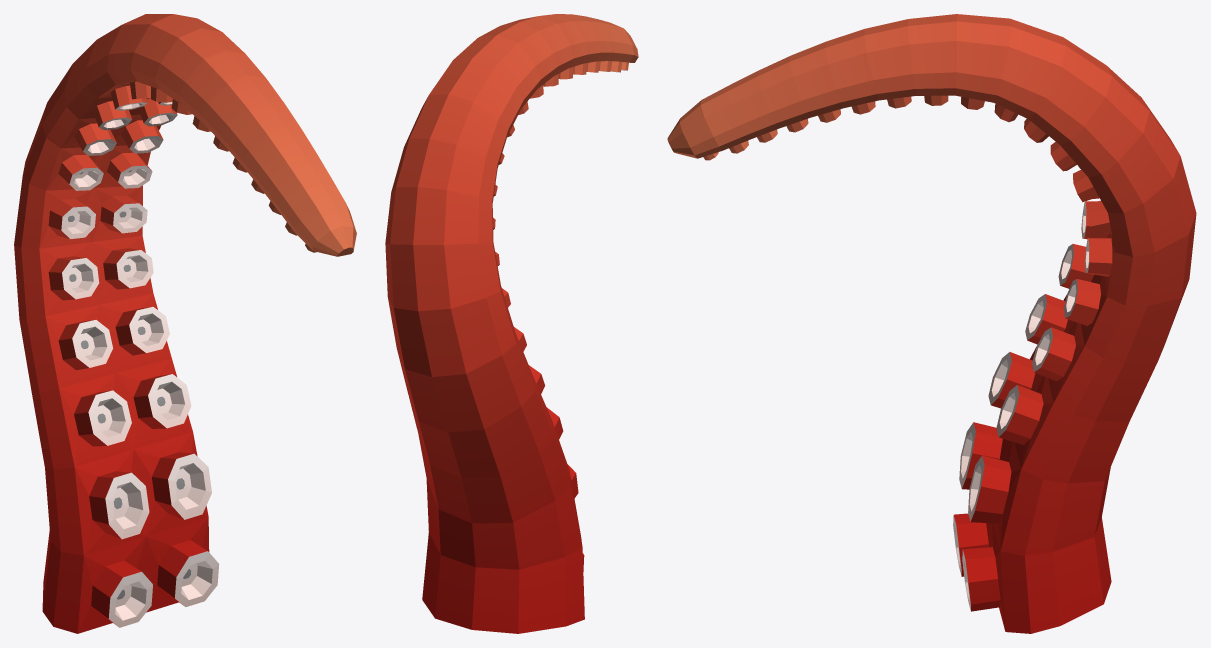
Rendered from tentacles-4.glb.
3 renders of one model, left to right at view 1: azimuth 30°, elevation 25°; view 2: azimuth 150°, elevation 25°; view 3: azimuth 270°, elevation 25°, orthographic. The views are drawn at different scales.
Visible parts, largest first — view 1: tentacles 4; view 2: tentacles 4; view 3: tentacles 4.
Boxes of the visible parts, bbox=[...] form: tentacles 4: bbox=[14, 14, 356, 633]; tentacles 4: bbox=[385, 14, 638, 633]; tentacles 4: bbox=[667, 14, 1196, 633].
Size of the model in its own units: 3.23 by 11.17 by 9.01.
1 material, 1 textured.
